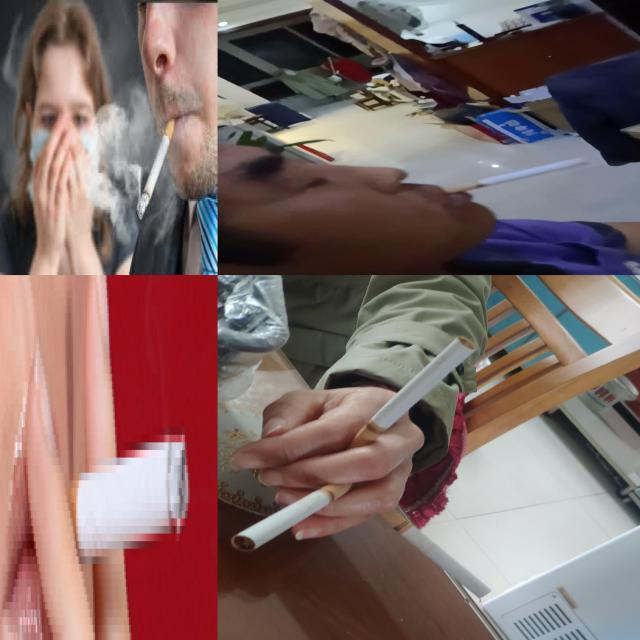smoke: (41, 431, 190, 568), (338, 336, 480, 462), (372, 500, 494, 600), (230, 476, 356, 554), (442, 158, 591, 196), (136, 111, 176, 222)
